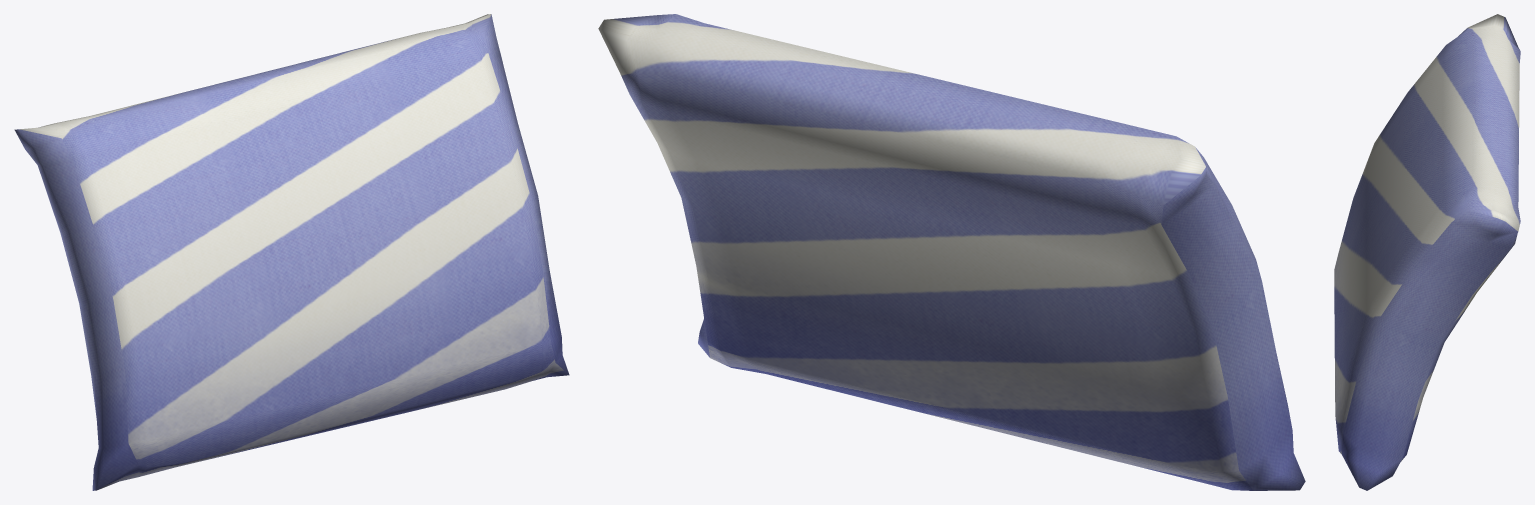
Rendered from Pillow2.fbx.
3 views of the same model, side by side, from view 1: azimuth 30°, elevation 25°; view 2: azimuth 150°, elevation 25°; view 3: azimuth 270°, elevation 25° (orthographic). The views are drawn at different scales.
Visible parts, largest first — view 1: Pillow1_mesh; view 2: Pillow1_mesh; view 3: Pillow1_mesh.
Part boxes in pixels (x1=…): Pillow1_mesh: x1=14, y1=14, x2=569, y2=490; Pillow1_mesh: x1=598, y1=14, x2=1305, y2=490; Pillow1_mesh: x1=1334, y1=14, x2=1520, y2=490.
Bounding box in the file's own units: 4.92 × 3.12 × 1.9.
